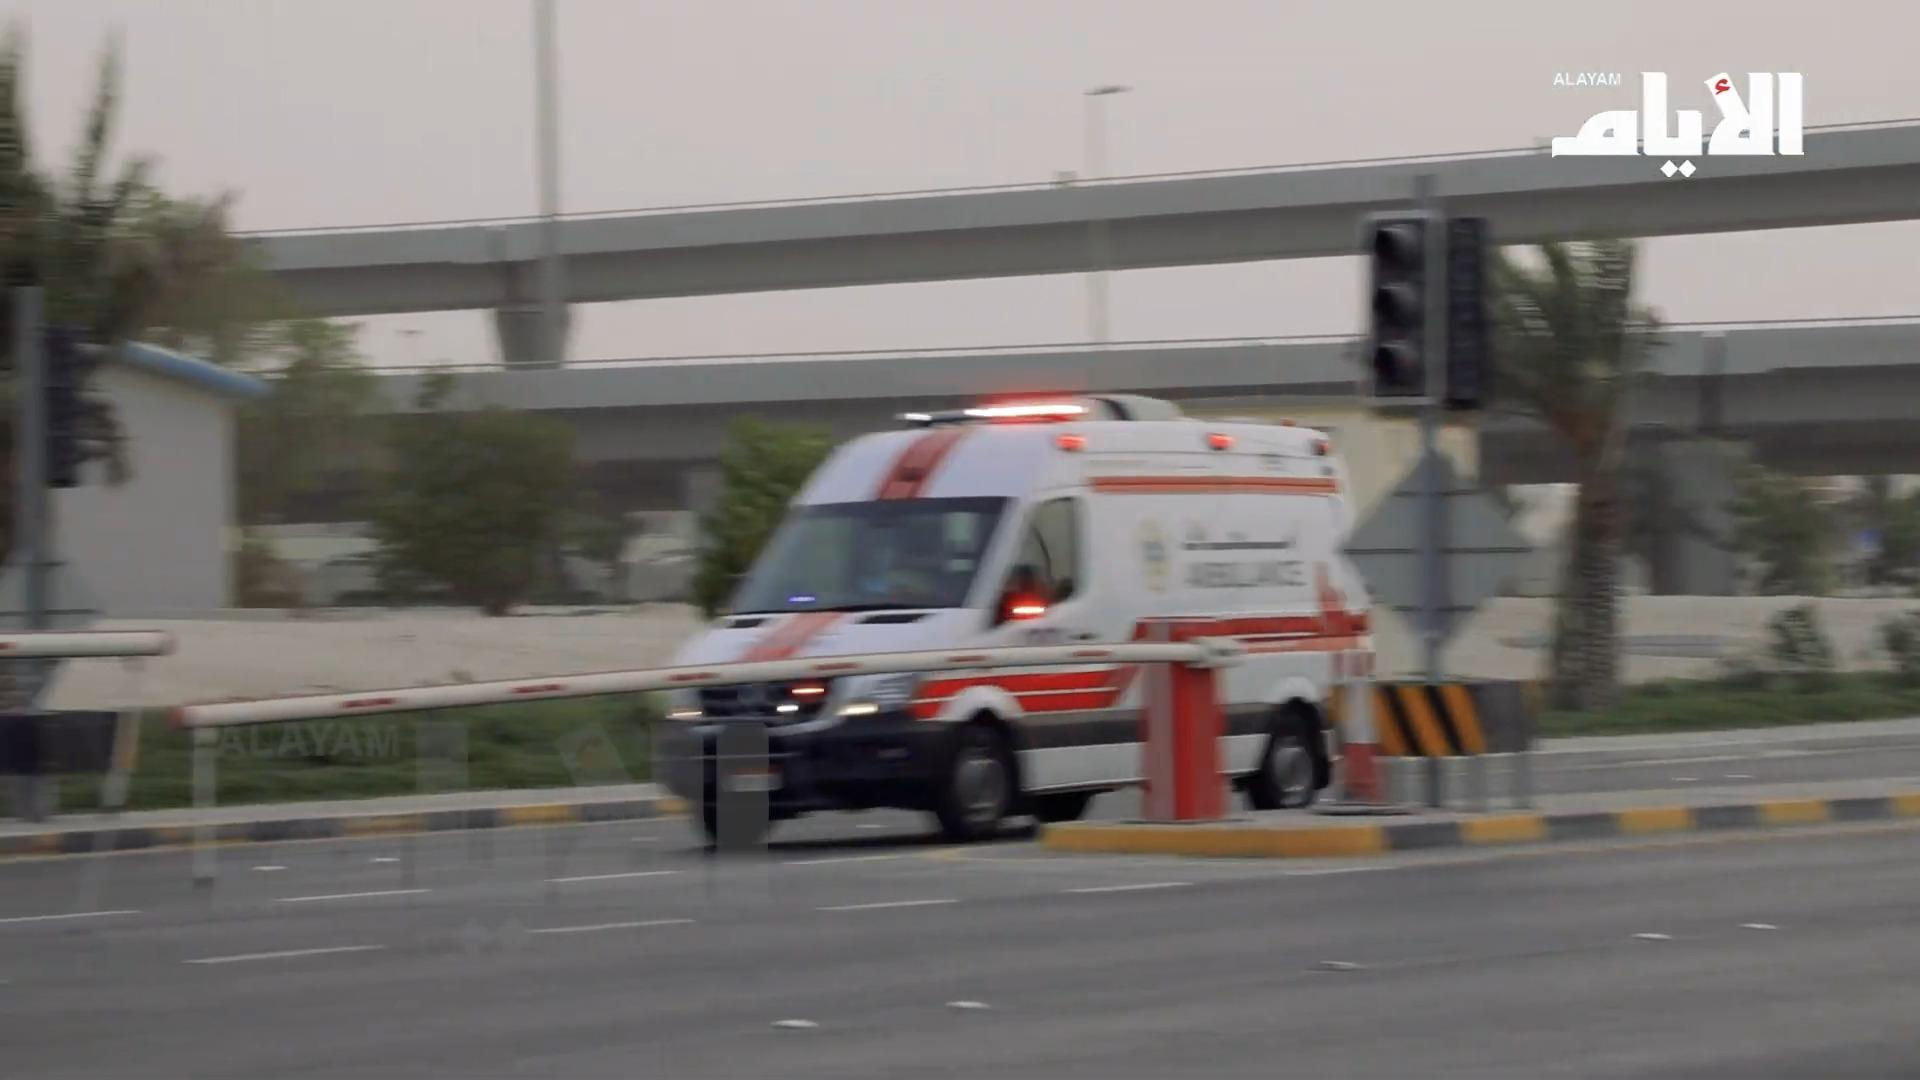ambulance_on: (657, 397, 1375, 839)
